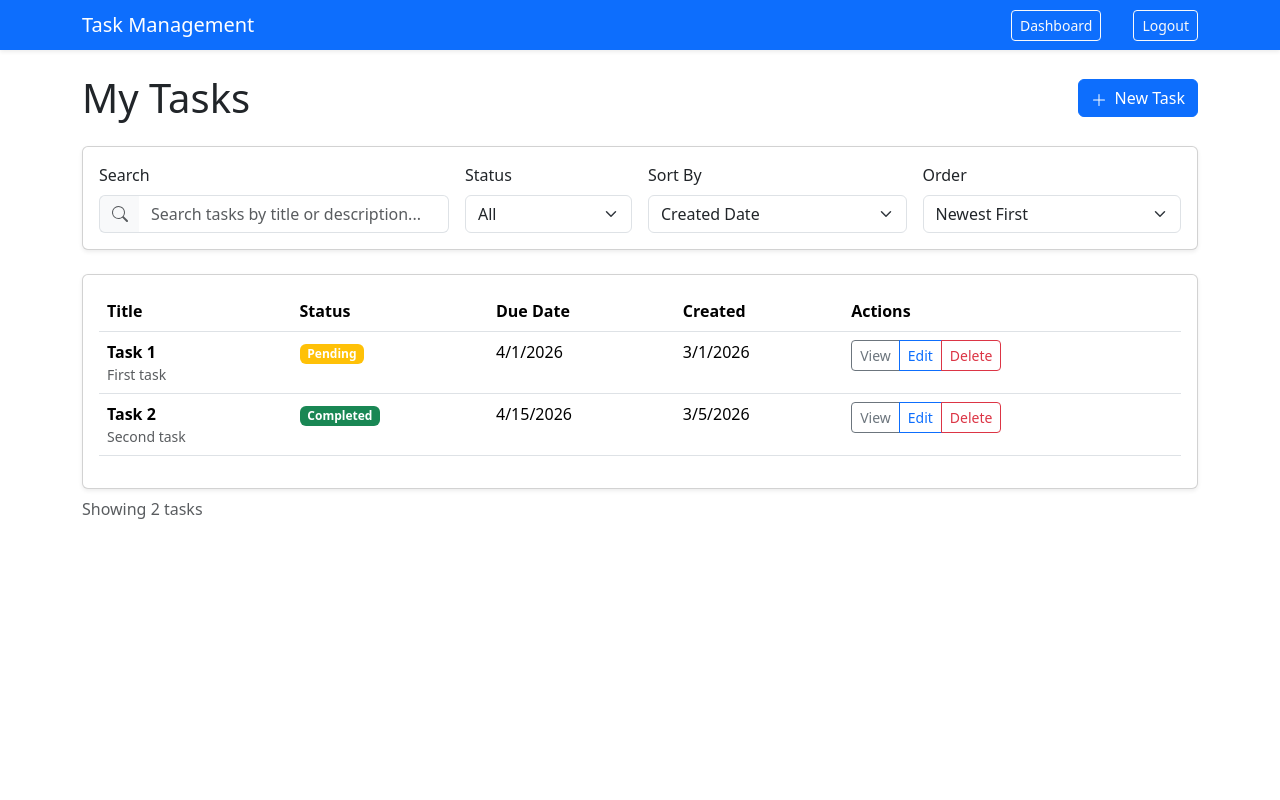
TasksPage › should open view modal when View button is clicked
Expected: the text "Task 1" is shown, x1=107 y1=341 x2=156 y2=363
Click the button with aria-label "View Task 1".
click(875, 356)  # box x1=851 y1=340 x2=900 y2=371
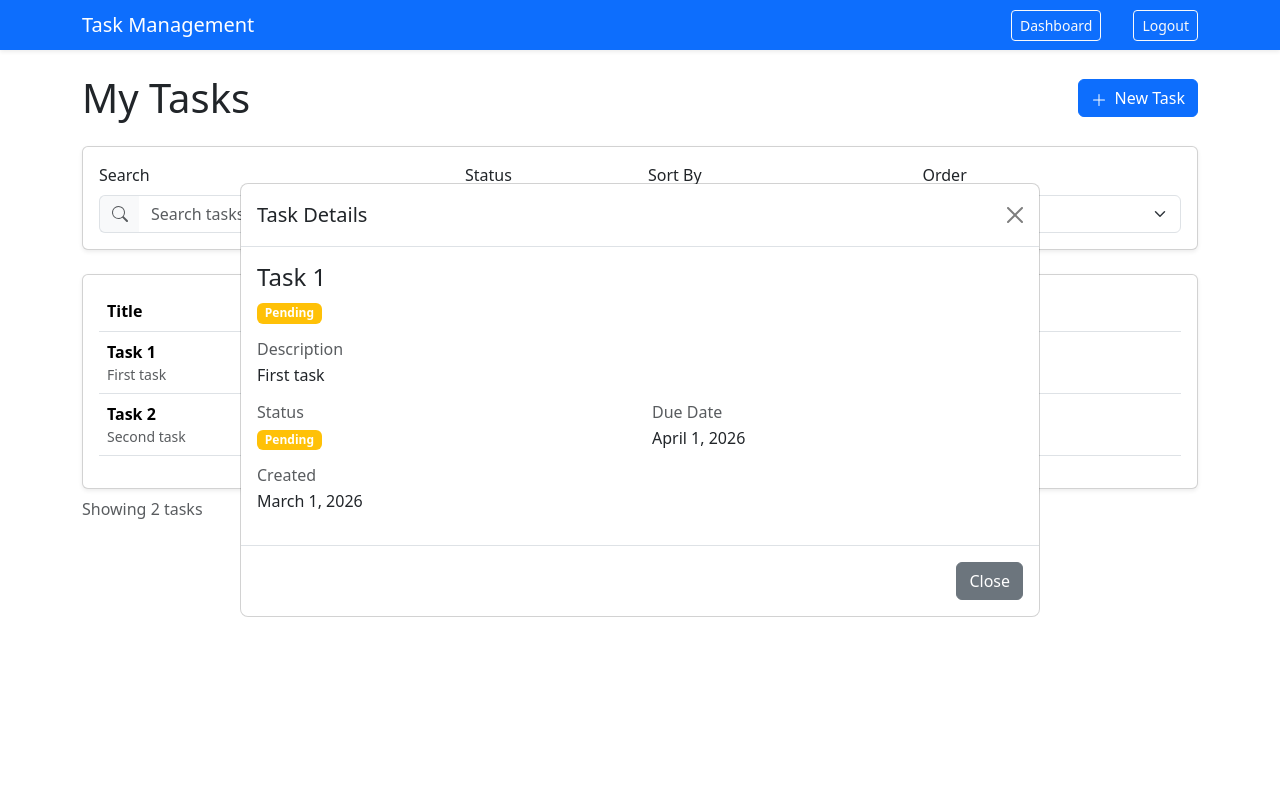
Now the heading "Task Details" is shown, box x1=257 y1=200 x2=367 y2=230
